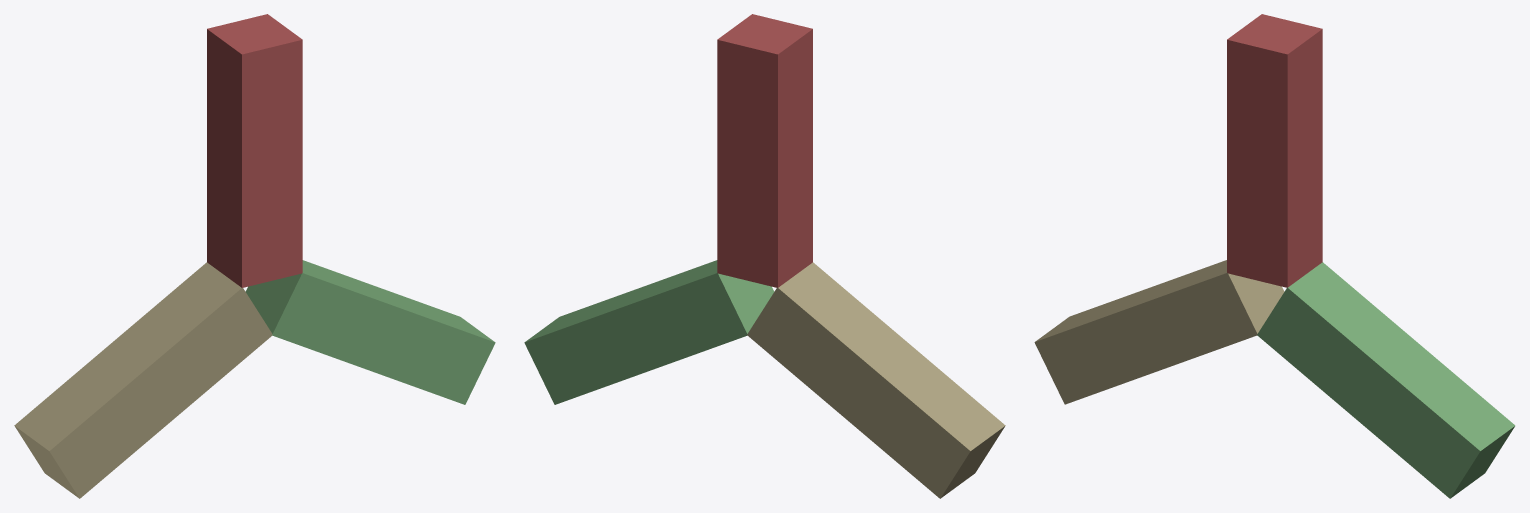
Rendered from Spinner.fbx.
3 views of the same model, side by side, from view 1: azimuth 30°, elevation 25°; view 2: azimuth 150°, elevation 25°; view 3: azimuth 330°, elevation 25° (orthographic).
Parts seen in each view (by area): view 1: pCube2, pCube3, pCube1; view 2: pCube2, pCube3, pCube1; view 3: pCube1, pCube3, pCube2.
Part boxes in pixels (box(x1,y1,x2,y2)): pCube2: box(14, 262, 272, 498); pCube3: box(207, 14, 302, 287); pCube1: box(245, 260, 495, 404); pCube2: box(747, 262, 1005, 498); pCube3: box(717, 14, 812, 287); pCube1: box(524, 260, 774, 404); pCube1: box(1257, 262, 1515, 498); pCube3: box(1227, 14, 1322, 287); pCube2: box(1034, 260, 1284, 404).
Size of the model in its own units: 7.34 by 6.36 by 1.
